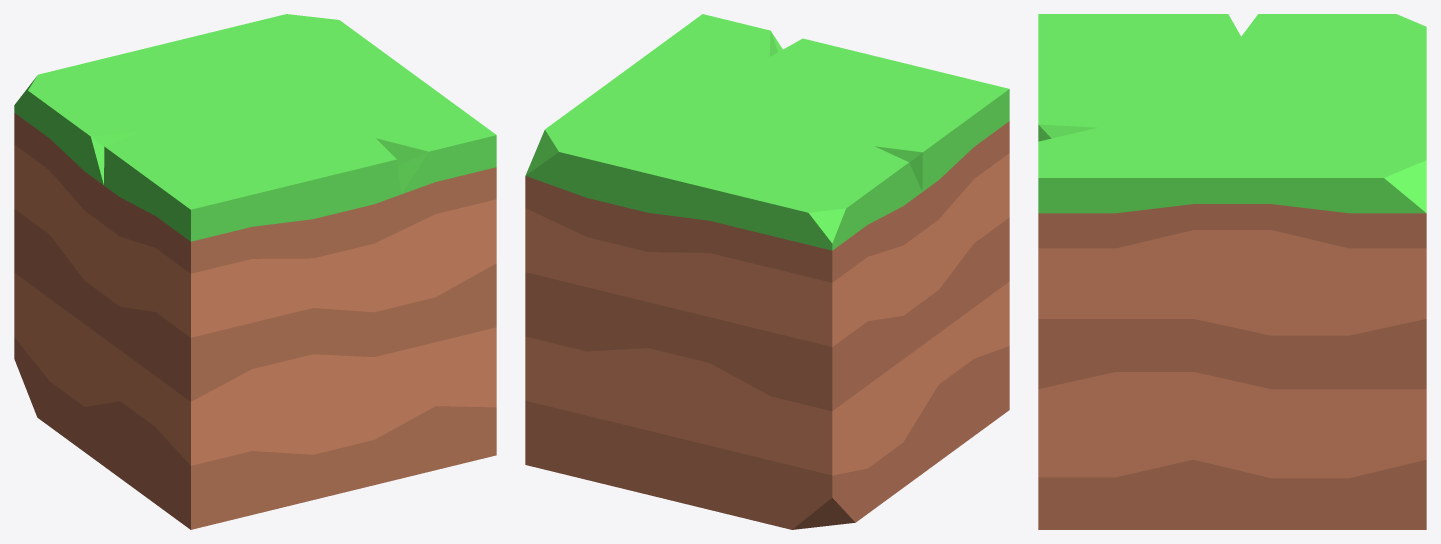
Rendered from Stone003.fbx.
3 views of the same model, side by side, from view 1: azimuth 30°, elevation 25°; view 2: azimuth 150°, elevation 25°; view 3: azimuth 270°, elevation 25° (orthographic). The views are drawn at different scales.
Parts seen in each view (by area): view 1: Stone003; view 2: Stone003; view 3: Stone003.
Part boxes in pixels (x1,y1,x2,y2): Stone003: (14, 14, 496, 529); Stone003: (525, 14, 1009, 529); Stone003: (1038, 14, 1426, 529).
Bounding box in the file's own units: 156 × 156 × 156.
